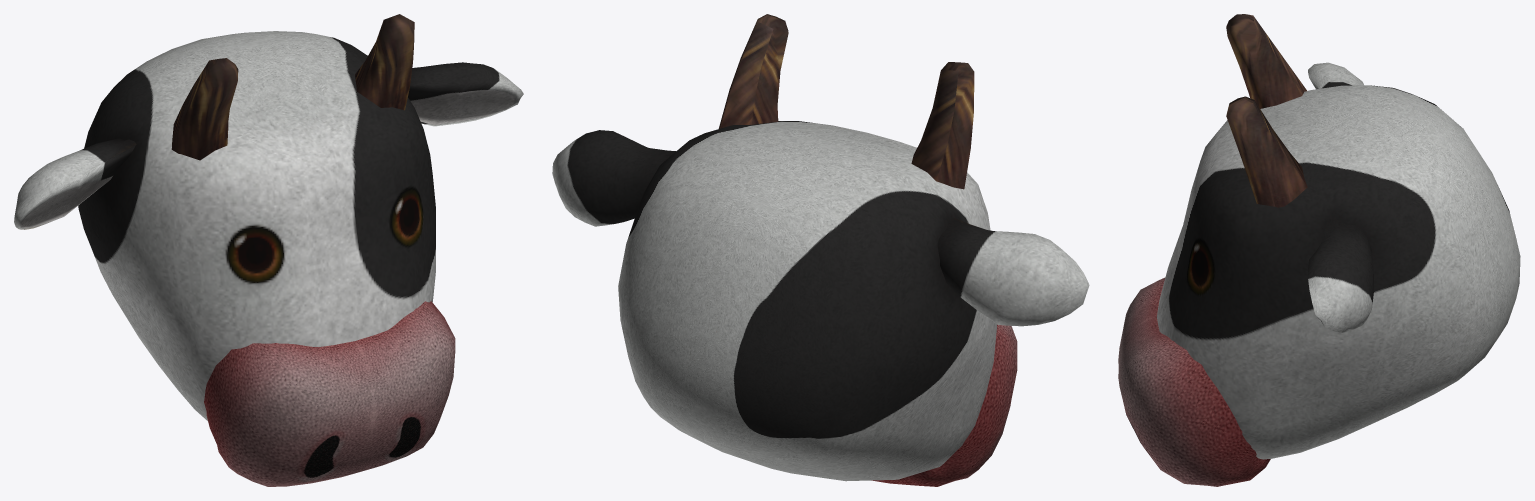
Rendered from CRT0110006.FBX.
The picture shows the model from 3 angles, left to right: view 1: azimuth 30°, elevation 25°; view 2: azimuth 150°, elevation 25°; view 3: azimuth 270°, elevation 25°; orthographic projection. The views are drawn at different scales.
Visible parts, largest first — view 1: smCRT0110006; view 2: smCRT0110006; view 3: smCRT0110006.
Boxes of the visible parts, <box> form: smCRT0110006: <box>14,14,523,486</box>; smCRT0110006: <box>552,14,1089,486</box>; smCRT0110006: <box>1118,14,1520,486</box>.
Size of the model in its own units: 0.1709 by 0.1358 by 0.1228.
Materials: 1 (1 with a texture image).
